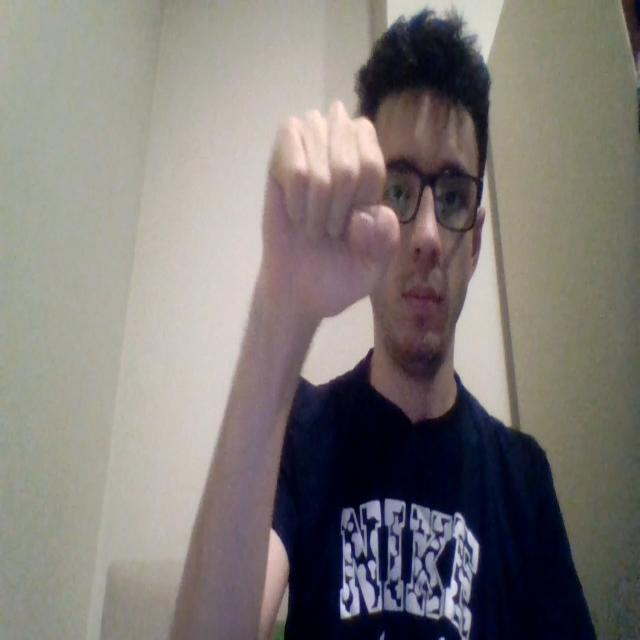yes: (260, 98, 400, 320)
